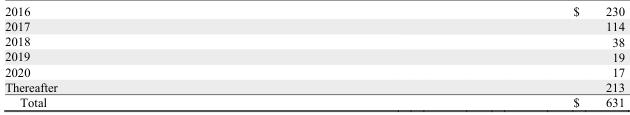table: (4, 4, 624, 108)
table column: (4, 4, 314, 108), (314, 4, 624, 108)
table row: (4, 63, 624, 79), (4, 18, 624, 33), (4, 33, 624, 48), (4, 48, 624, 63), (4, 79, 624, 94), (4, 4, 624, 18), (4, 94, 624, 108)
